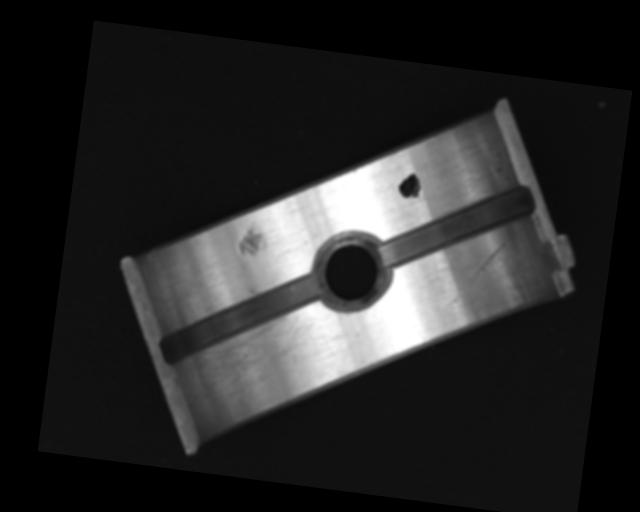blot: (396, 170, 423, 200)
bruise: (236, 219, 266, 259)
gap: (158, 254, 322, 383), (377, 167, 535, 282)
hole: (313, 228, 391, 317)
nick: (448, 233, 506, 315)
scratch: (184, 302, 315, 413)
